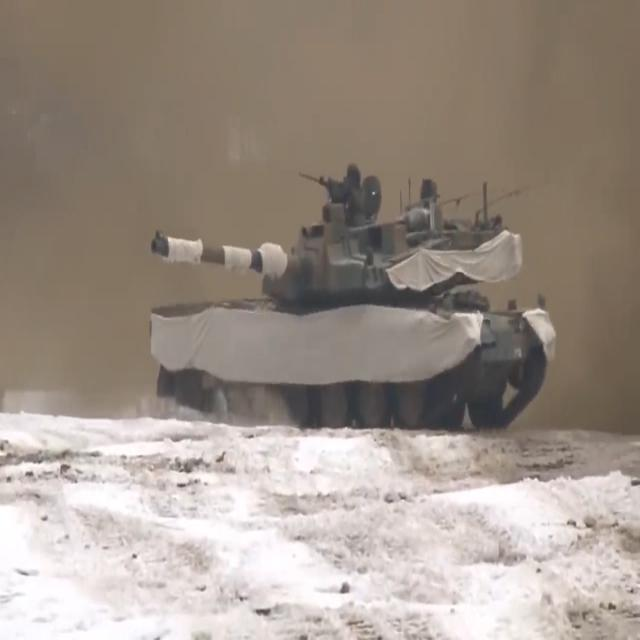korea tank: (149, 162, 556, 426)
